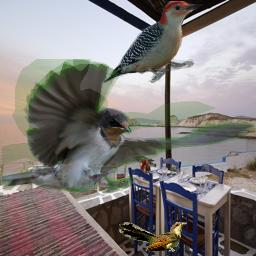Cuckoo: (119, 222, 187, 252)
Swallow: (2, 59, 255, 193)
Woodpecker: (104, 1, 205, 83)
